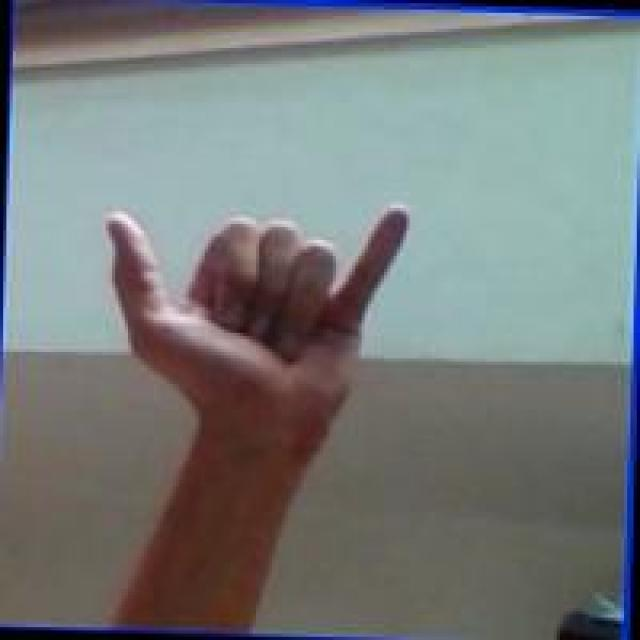Y: (94, 184, 414, 443)
